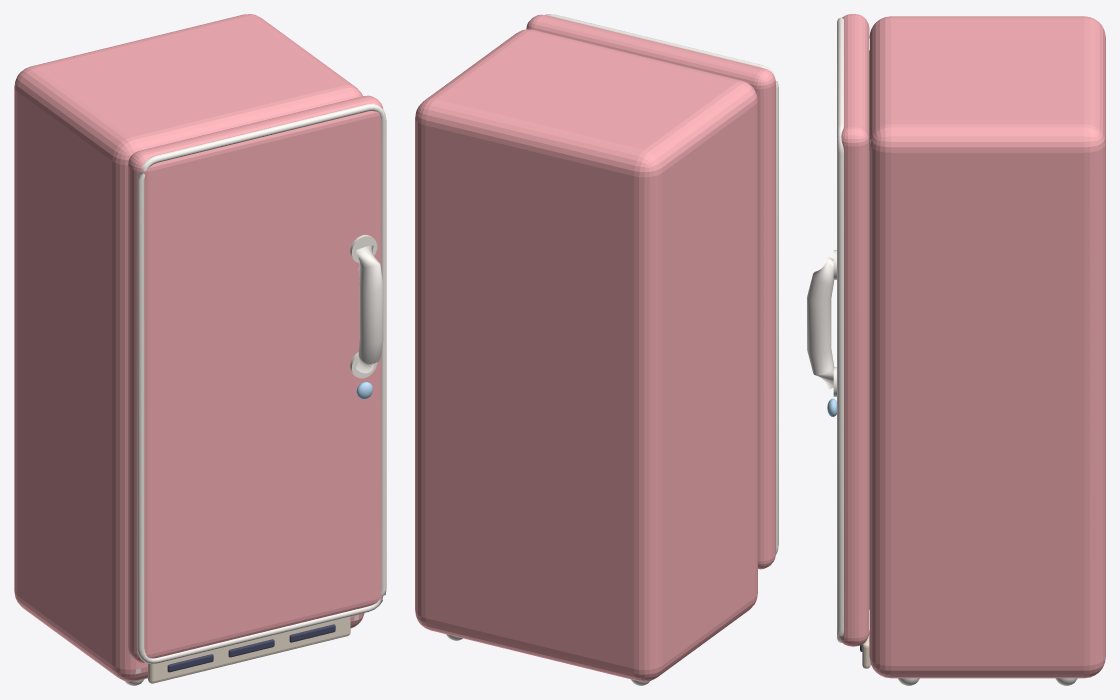
File: geladeira-retro.glb
The picture shows the model from 3 angles, left to right: view 1: azimuth 30°, elevation 25°; view 2: azimuth 150°, elevation 25°; view 3: azimuth 270°, elevation 25°; orthographic projection. The views are drawn at different scales.
Parts seen in each view (by area): view 1: porta, geladeira; view 2: geladeira, porta; view 3: geladeira, porta.
Boxes of the visible parts, left/top/right/bottom form: porta: left=128, top=95, right=386, bottom=663; geladeira: left=14, top=14, right=364, bottom=685; geladeira: left=415, top=29, right=757, bottom=685; porta: left=526, top=14, right=778, bottom=569; geladeira: left=860, top=16, right=1105, bottom=685; porta: left=807, top=14, right=869, bottom=646.
Size of the model in its own units: 0.82 by 1.75 by 0.8339.
